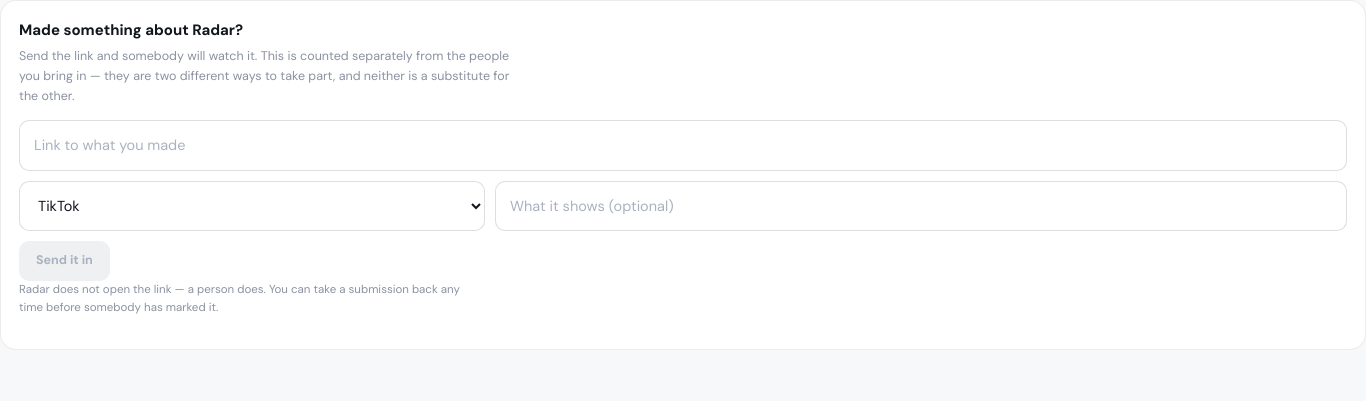
Scenario: ContentSubmissionPanel › shows why a submission was refused
The width and height of the screenshot is (1366, 401).
In the field labelled "Link to what you made": {"x": 683, "y": 146} [19,120,1347,171], type "https://tiktok.com/@ada/video/1"
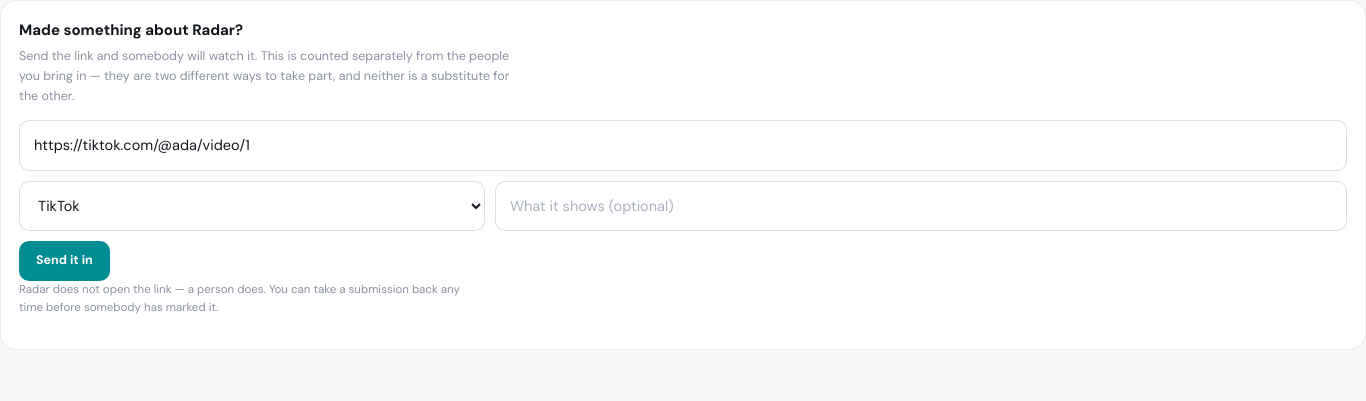
Click the button "Send it in": {"x": 64, "y": 261} [19,241,110,281]
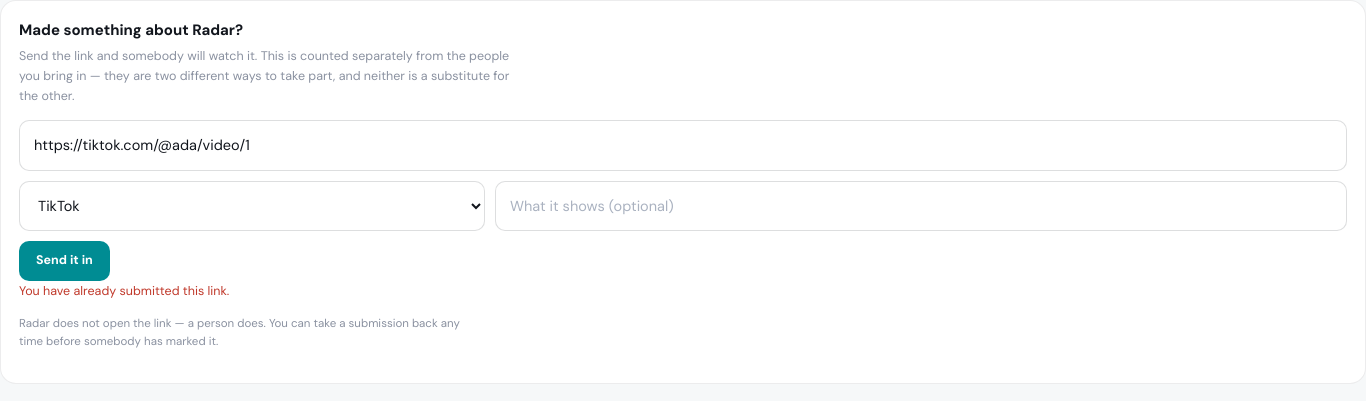
Expected: the text "You have already submitted this link." is shown, [19,283,229,299]
